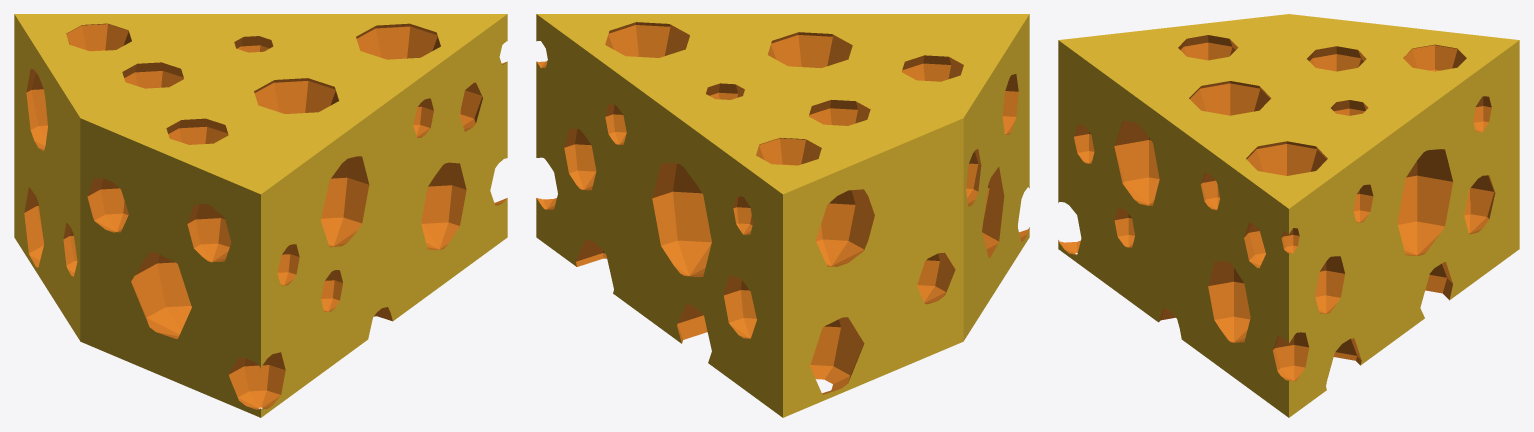
Rendered from cheese.glb.
3 views of the same model, side by side, from view 1: azimuth 30°, elevation 25°; view 2: azimuth 150°, elevation 25°; view 3: azimuth 270°, elevation 25° (orthographic). The views are drawn at different scales.
Visible parts, largest first — view 1: cheese; view 2: cheese; view 3: cheese.
Boxes of the visible parts, x1,y1,x2,y2 form: cheese: [14, 14, 507, 417]; cheese: [536, 14, 1029, 417]; cheese: [1058, 14, 1519, 417].
Bounding box in the file's own units: 1 × 0.5 × 1.
